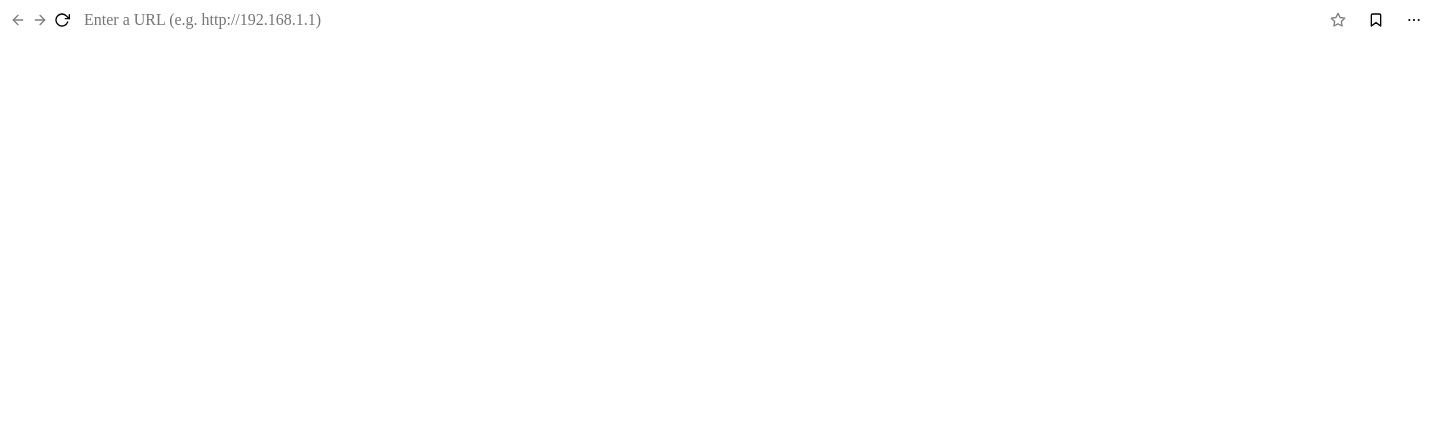
WebBrowserPane › 🗑 clears browsing data with the categories selected inline in the ⋯ More panel
Expected: the text "Cookies and site data" is not shown
Click the button named "More" at (1414, 20), box [1398,6,1430,34]
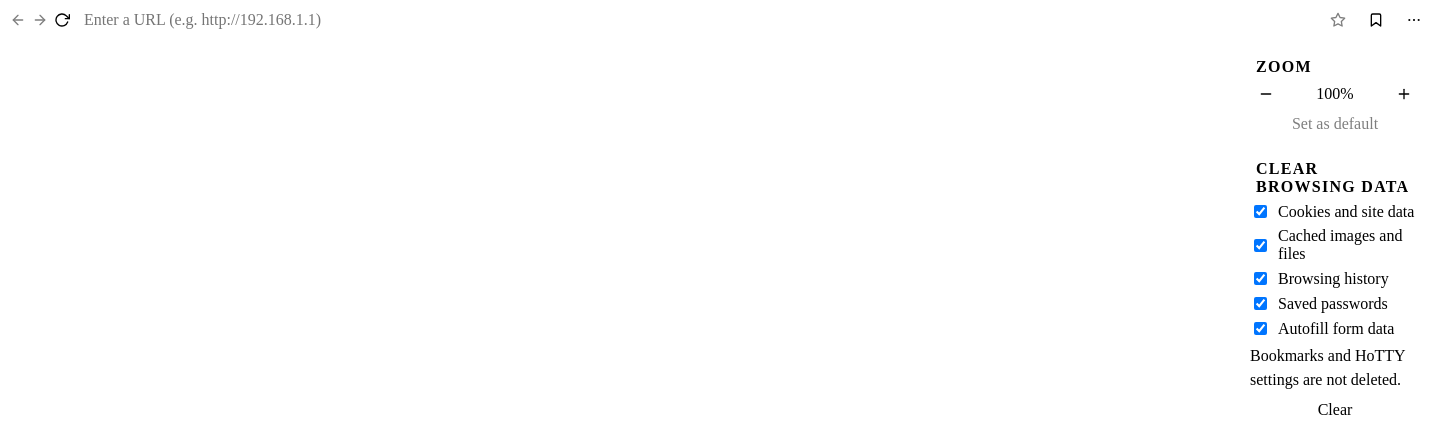
Expected: the text "Cookies and site data" is shown, [1278,202,1414,220]
Click the checkbox labelled "Saved passwords" at (1260, 304), box [1254,297,1267,310]
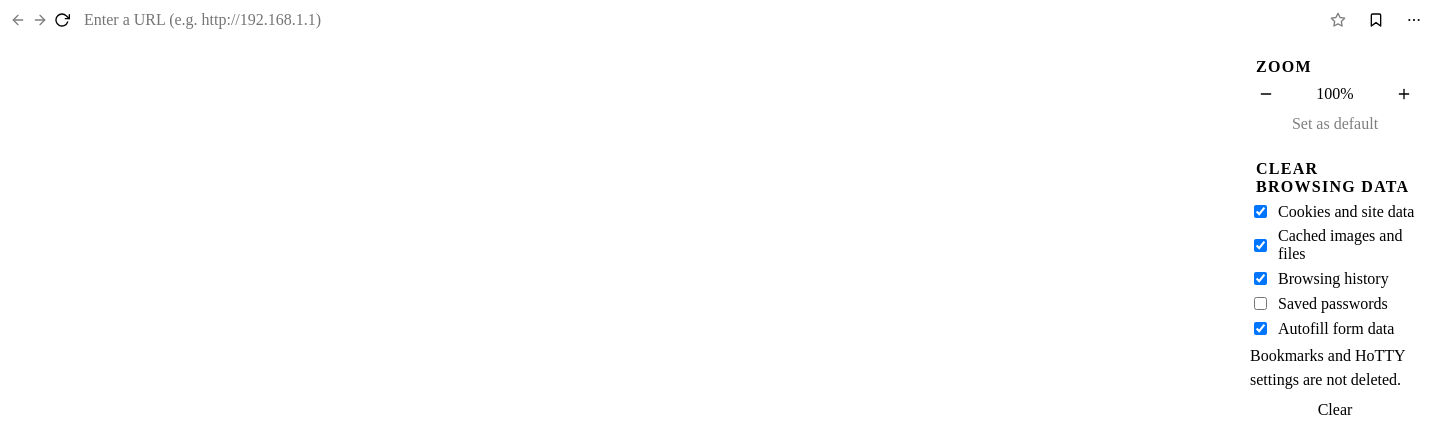
Click the button "Clear" at (1335, 410), box [1250,398,1420,422]
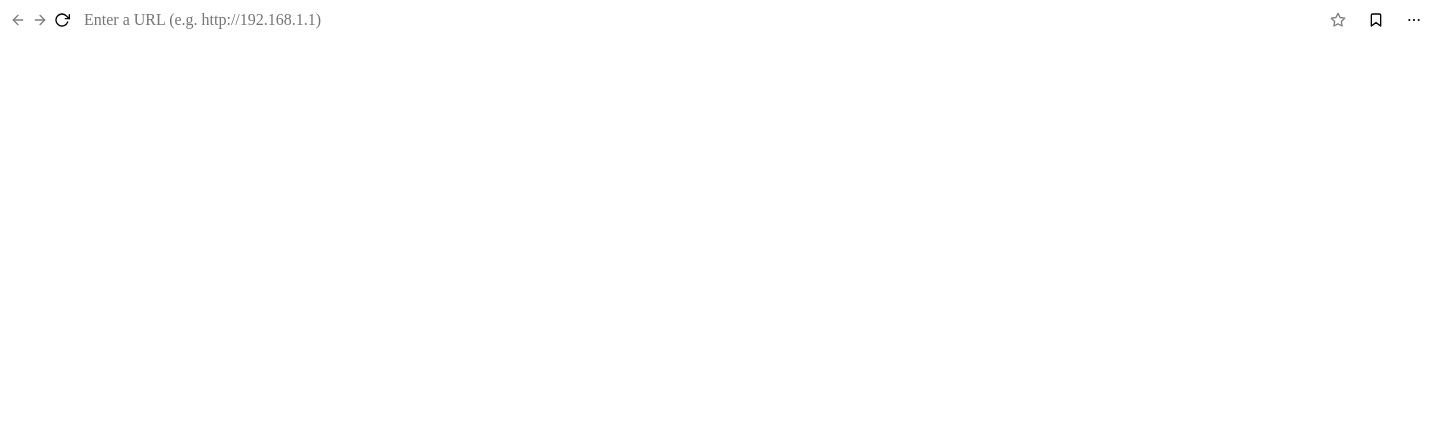
Expected: the text "Zoom" is gone
